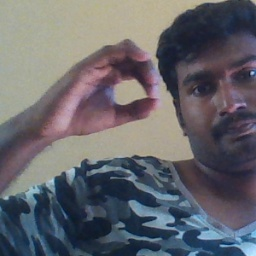O: (43, 37, 163, 138)
